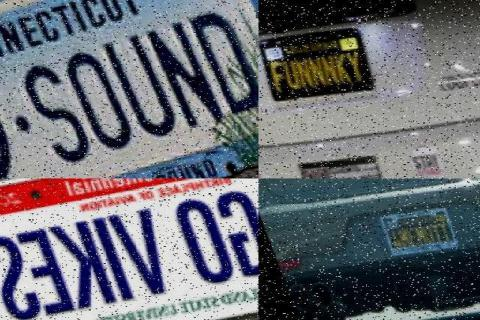LicensePlate: (0, 5, 259, 178), (0, 178, 259, 320), (258, 23, 374, 107), (376, 204, 462, 266)
